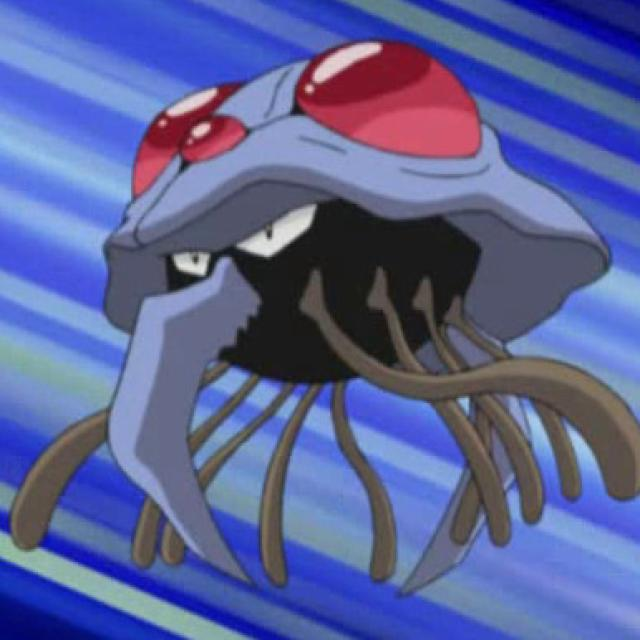Tentacruel: (93, 43, 535, 592)
